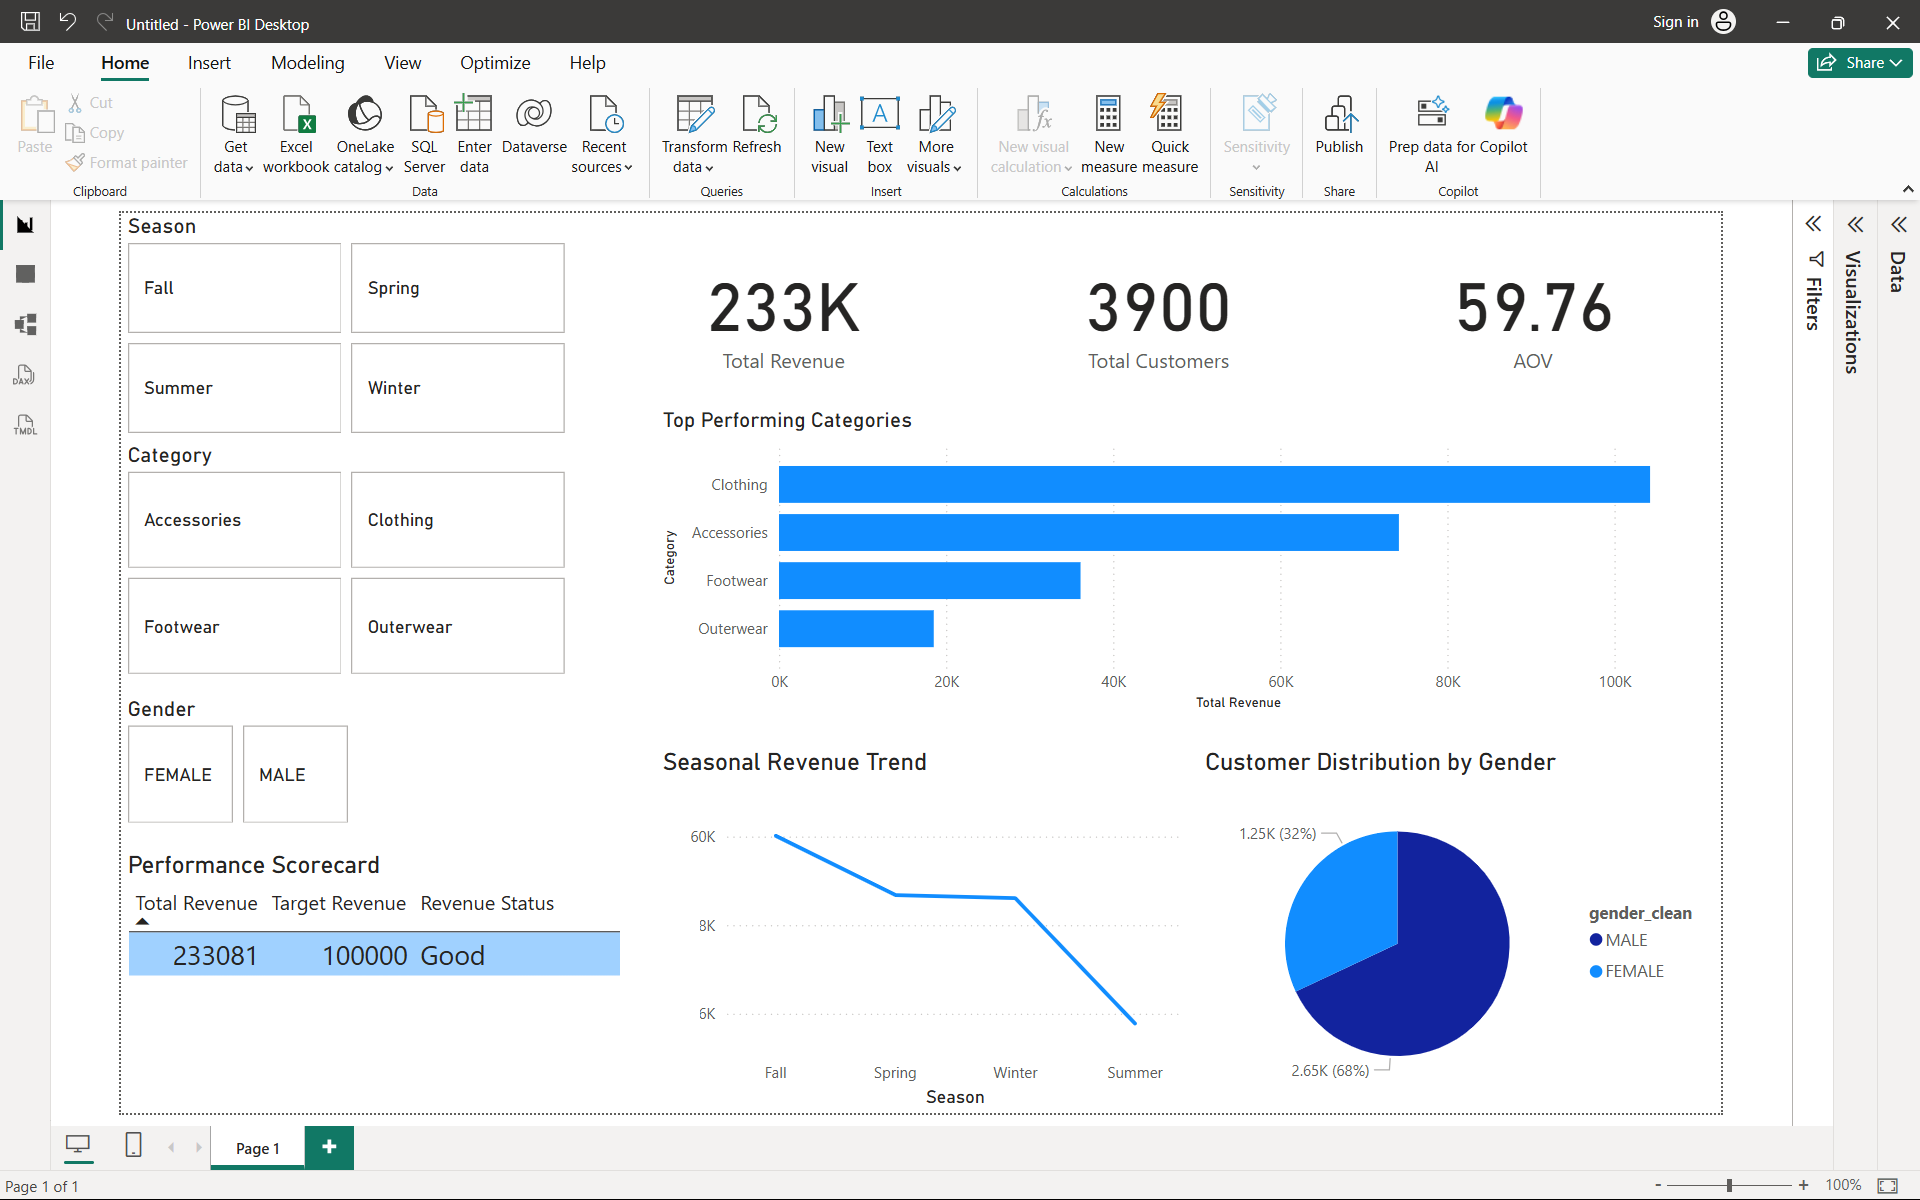

What the dashboard file says about the page in this screenshot:
{"tool":"powerbi","page":{"name":"Page 1","canvas":[1280,720],"ordinal":0},"visuals":[{"type":"card","fields":{"Values":["cleaned_data.total_revenueTotal Revenue"]},"box":[337.5,0,383.8,158.8],"z":0},{"type":"card","fields":{"Values":["cleaned_data.Total Customers"]},"box":[640,0,378.8,158.8],"z":1000},{"type":"card","fields":{"Values":["cleaned_data.AOV"]},"box":[977.5,0,302.5,158.8],"z":2000},{"type":"lineChart","title":"Seasonal Revenue Trend","fields":{"Y":["cleaned_data.Total Revenue"],"Category":["cleaned_data.Season"]},"box":[428,428,426,292],"z":3000},{"type":"clusteredBarChart","title":"Top Performing Categories","fields":{"Category":["cleaned_data.Category"],"Y":["cleaned_data.Total Revenue"]},"box":[427.5,155,852.5,247.5],"z":4000},{"type":"pieChart","title":"Customer Distribution by Gender","fields":{"Category":["cleaned_data.gender_clean"],"Y":["CountNonNull(cleaned_data.Customer ID)"]},"box":[862,428,418,292],"z":5000},{"type":"tableEx","title":"Performance Scorecard","fields":{"Values":["cleaned_data.Total Revenue","cleaned_data.Target Revenue","cleaned_data.Revenue Status"]},"box":[0,510,462.5,181.2],"z":6000},{"type":"advancedSlicerVisual","fields":{"Values":["cleaned_data.Season"]},"box":[0,0,361.2,182.5],"z":7000},{"type":"advancedSlicerVisual","fields":{"Values":["cleaned_data.Category"]},"box":[0,182.5,360,192.5],"z":8000},{"type":"advancedSlicerVisual","title":"Gender","fields":{"Values":["cleaned_data.gender_clean"]},"box":[0,386.2,278.8,107.5],"z":9000}]}

Visuals, with their boxes on the page's 1280x720 design canvas (x1, y1, x2, y2). These are canvas units, not pixel positions in the 1920x1200 screenshot, which may show the page scaled, cropped or inside an application window:
card - cleaned_data.total_revenueTotal Revenue: crop(338, 0, 721, 159)
card - cleaned_data.Total Customers: crop(640, 0, 1019, 159)
card - cleaned_data.AOV: crop(978, 0, 1280, 159)
"Seasonal Revenue Trend" lineChart: crop(428, 428, 854, 720)
"Top Performing Categories" clusteredBarChart: crop(428, 155, 1280, 402)
"Customer Distribution by Gender" pieChart: crop(862, 428, 1280, 720)
"Performance Scorecard" tableEx: crop(0, 510, 462, 691)
advancedSlicerVisual - cleaned_data.Season: crop(0, 0, 361, 182)
advancedSlicerVisual - cleaned_data.Category: crop(0, 182, 360, 375)
"Gender" advancedSlicerVisual: crop(0, 386, 279, 494)
